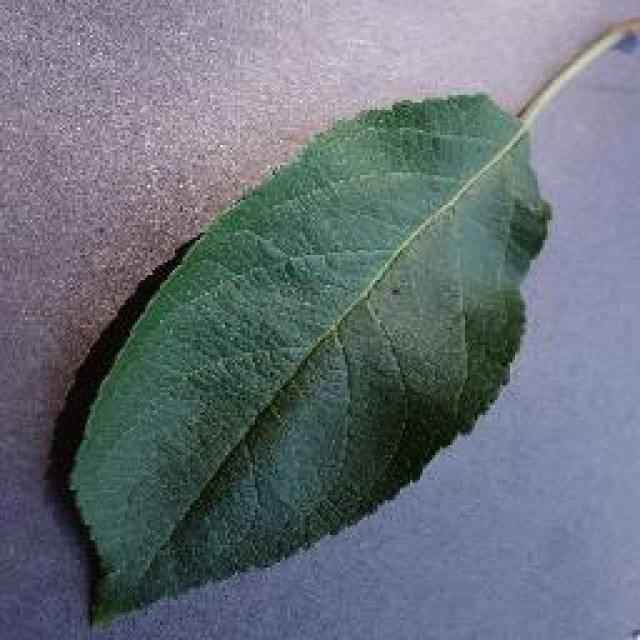apple healthy: (48, 10, 638, 628)
